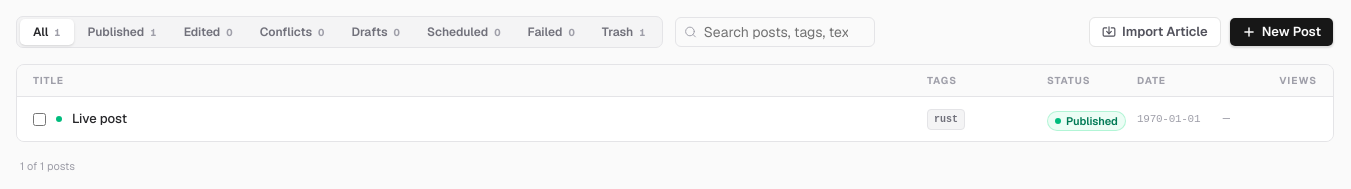
Test: the posts list › shows the trash in its own tab
Expected: the text "Live post" is shown, [72,109,127,129]
Expected: the text "Binned post" is not shown
Click the tab "Trash 1" at point(624, 32), box [589,19,659,45]
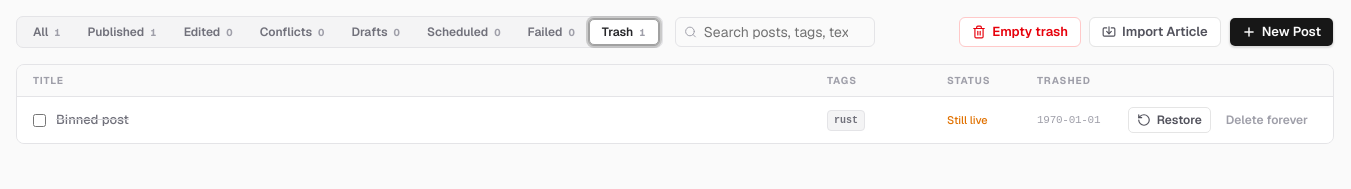
Expected: the text "Binned post" is shown, [56,110,129,130]
